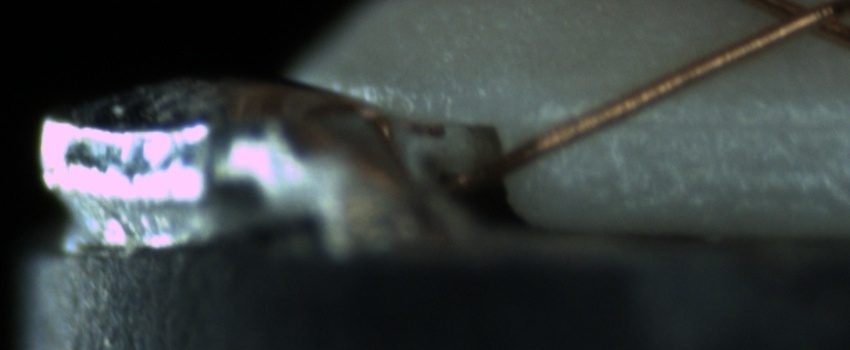CL: (752, 1, 843, 46)
DL: (567, 86, 846, 153)
